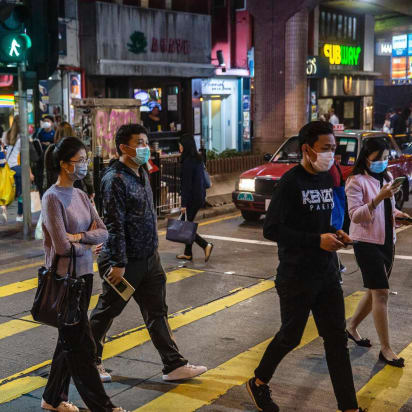with_mask: (69, 153, 88, 180), (312, 143, 335, 165), (133, 137, 151, 164), (369, 152, 389, 173), (43, 120, 51, 130)
